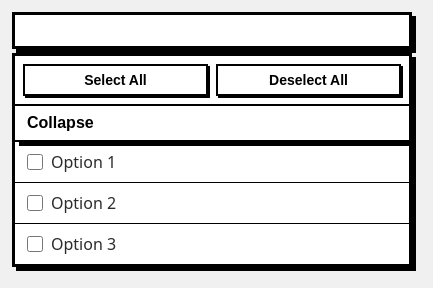
Test: Select Component › Multi Select Mode › handles collapse/expand functionality
Check: the checkbox labelled "Option 1" is shown, box [27,154,43,170]
Click the button "Collapse": (60, 122) [15,106,409,142]
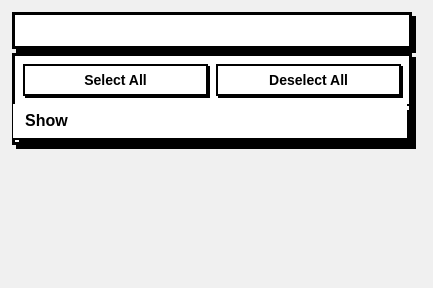
Check: the label labelled "Option 1" is gone
